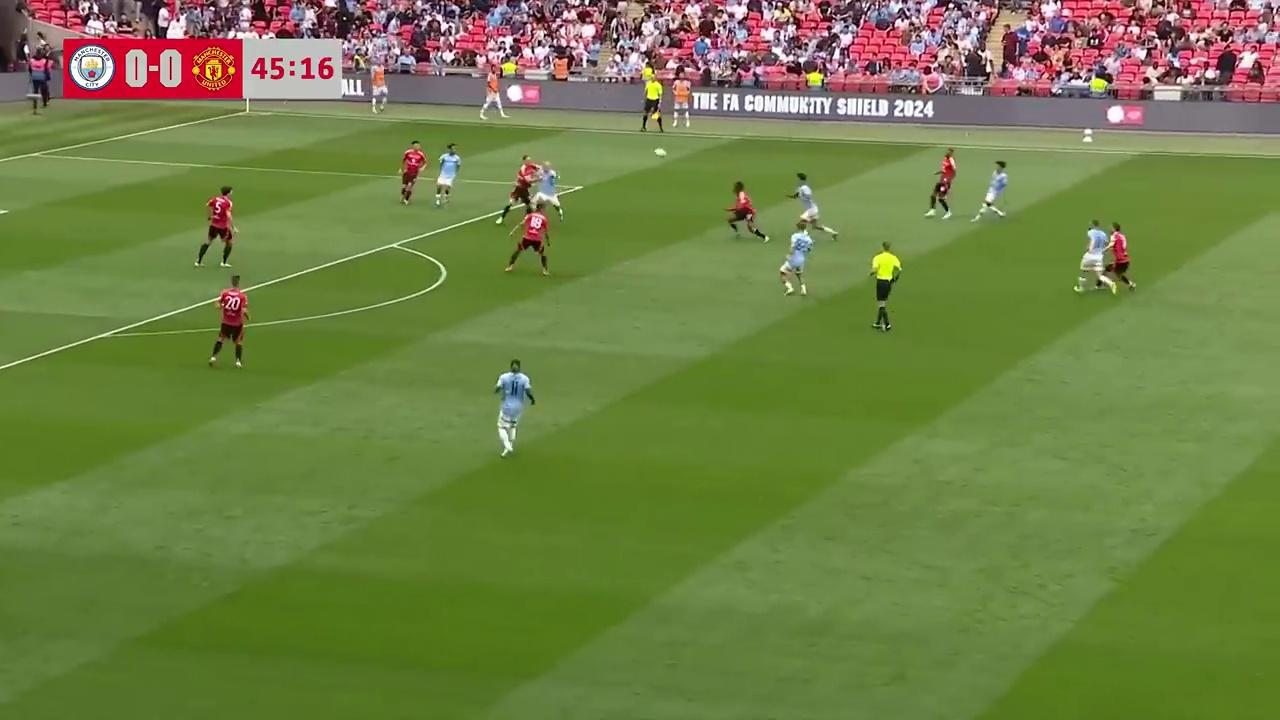ball: (652, 142, 668, 160)
player: (492, 358, 537, 456), (207, 275, 249, 368), (196, 186, 236, 268), (791, 173, 836, 238), (778, 220, 815, 297), (496, 154, 536, 224), (1073, 219, 1110, 293), (724, 181, 768, 241), (517, 202, 552, 277), (1103, 221, 1136, 294), (925, 148, 956, 220), (972, 161, 1008, 222), (399, 140, 427, 205), (534, 161, 564, 220), (433, 143, 460, 207)
referee: (869, 241, 901, 331), (640, 73, 665, 133)
